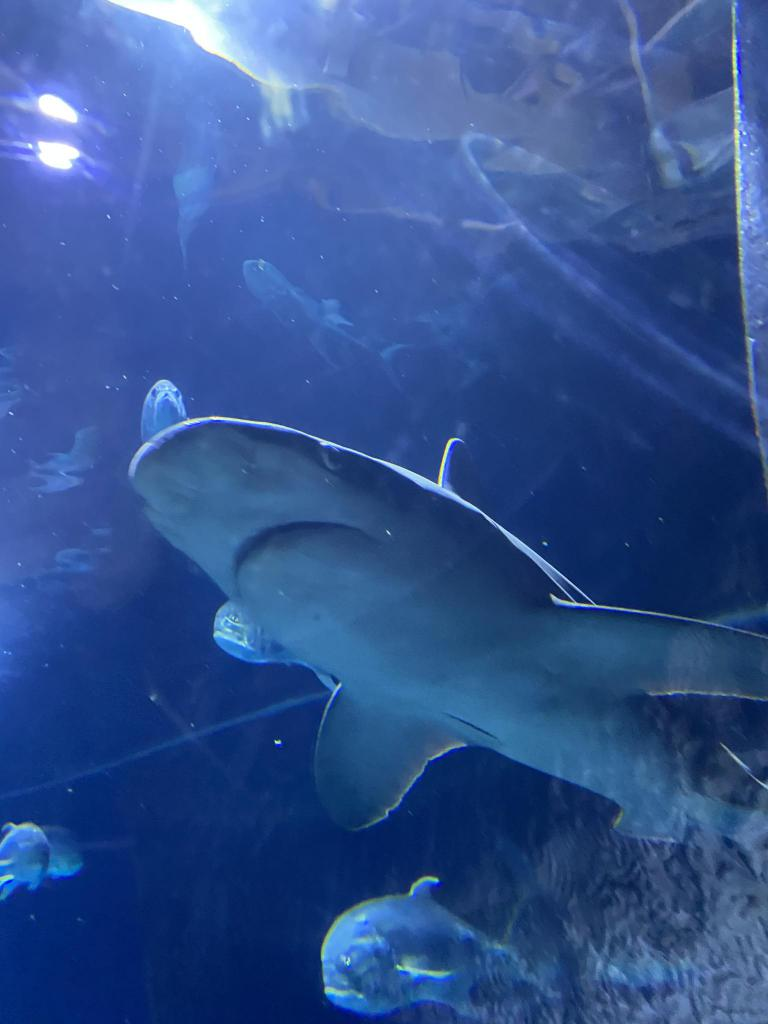fish: (322, 876, 530, 1020), (0, 819, 85, 899), (142, 378, 184, 448)
shark: (129, 416, 767, 852)
